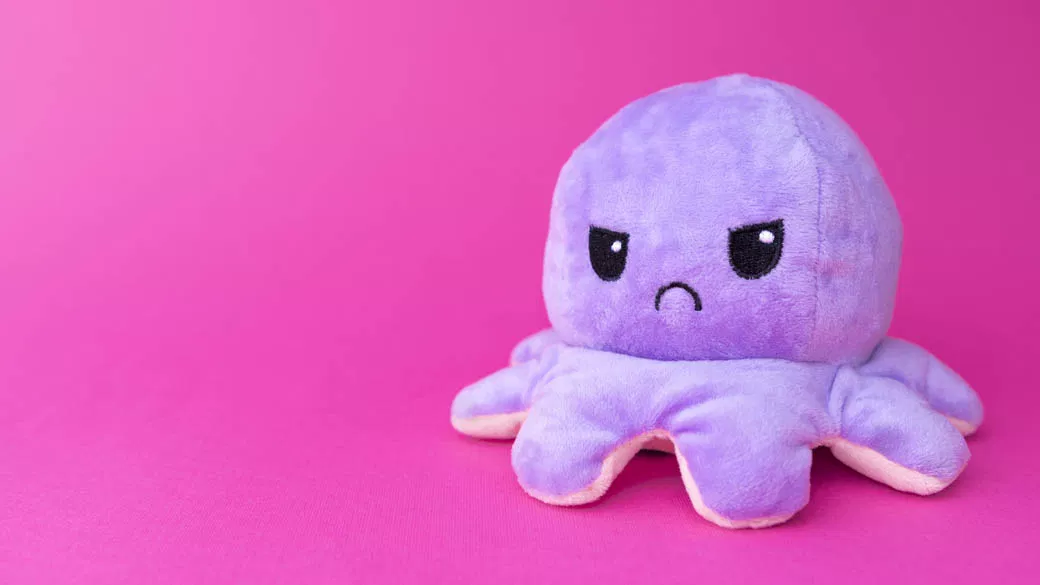toy: (447, 62, 960, 528)
